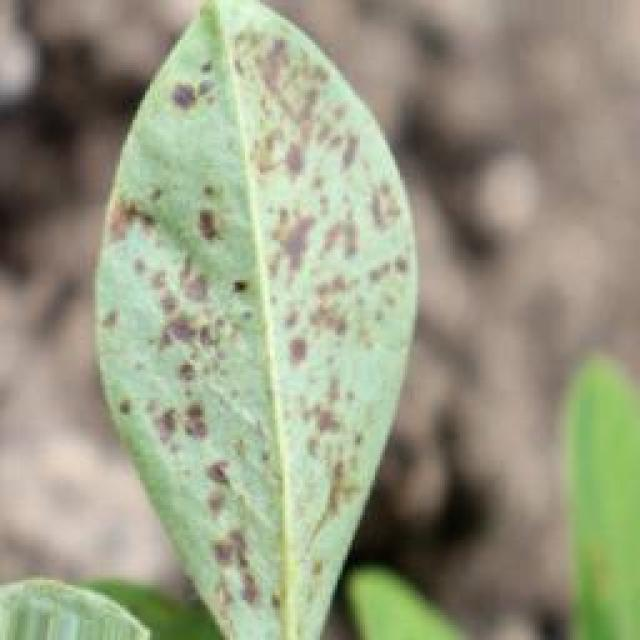Whitefly: (96, 8, 413, 640)
